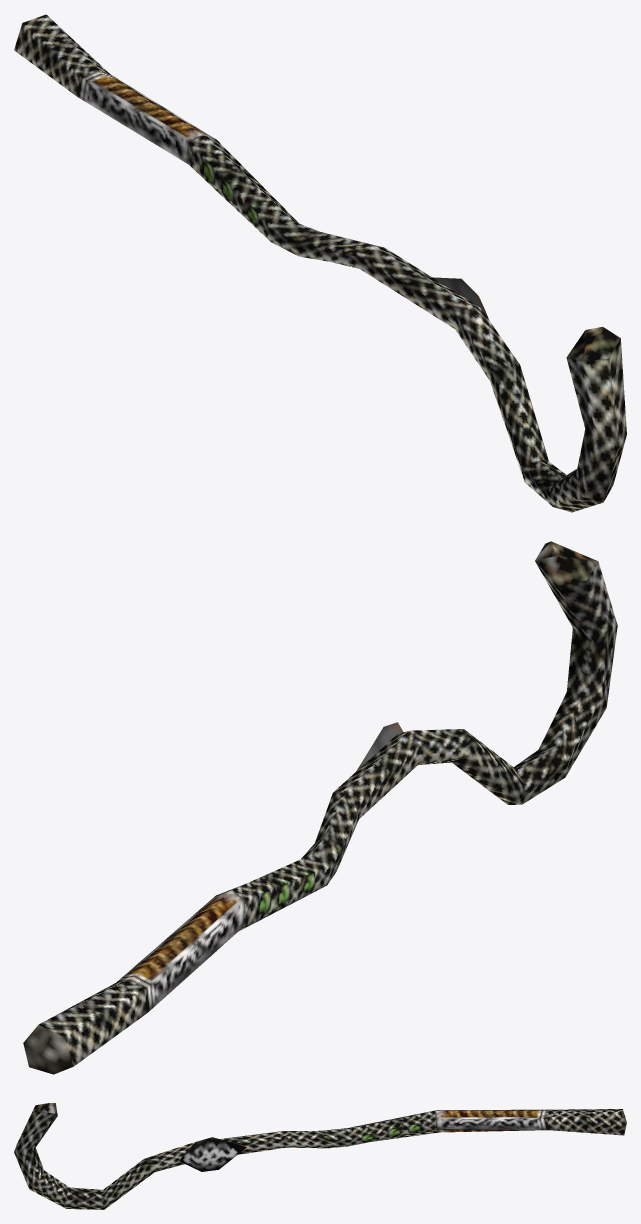
The model's file is wac15.glb.
3 renders of one model, top to bottom at view 1: azimuth 30°, elevation 25°; view 2: azimuth 150°, elevation 25°; view 3: azimuth 270°, elevation 25°, orthographic. The views are drawn at different scales.
Parts seen in each view (by area): view 1: wac15-col; view 2: wac15-col; view 3: wac15-col.
Boxes of the visible parts, x1,y1,x2,y2 form: wac15-col: (14,14,626,512); wac15-col: (23,541,617,1074); wac15-col: (14,1103,626,1209).
Bounding box in the file's own units: 0.1475 × 0.2588 × 1.31.
Materials: 1 (1 with a texture image).
